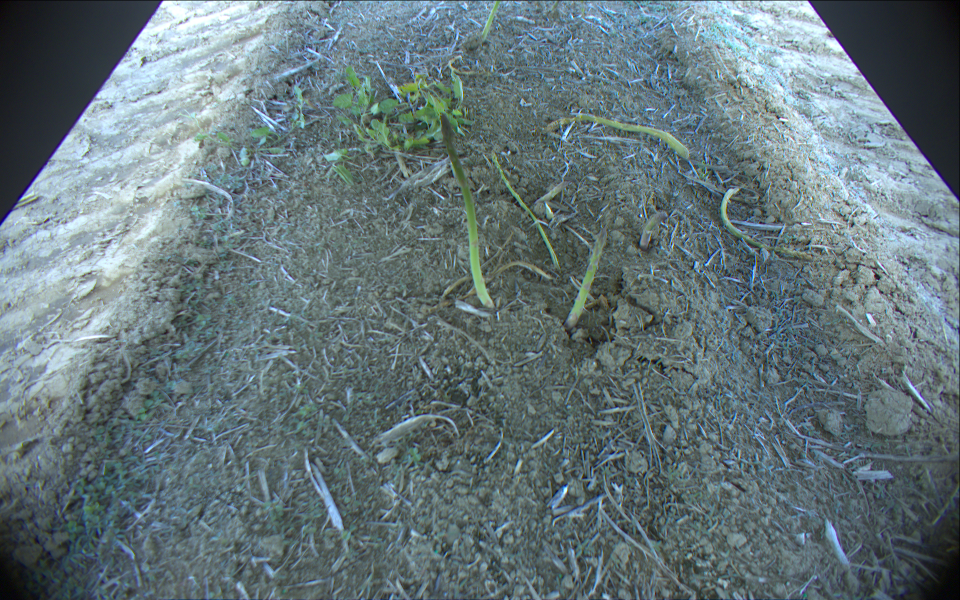aspa: (438, 113, 494, 309), (489, 155, 561, 272), (564, 205, 619, 332), (544, 111, 691, 158), (719, 187, 815, 258), (642, 210, 670, 247), (482, 1, 500, 40)
